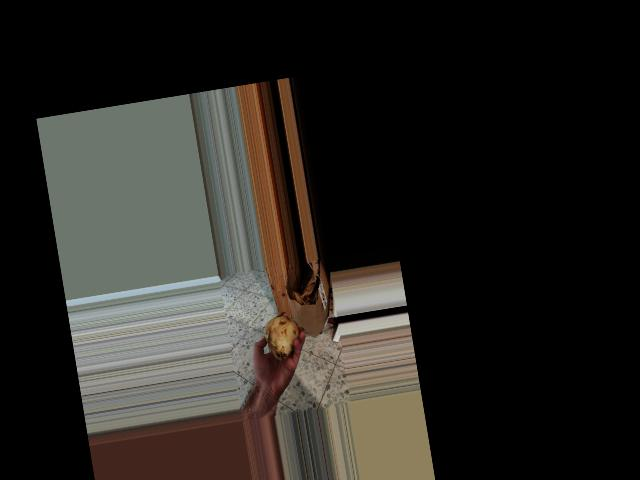onion: (259, 310, 305, 364)
